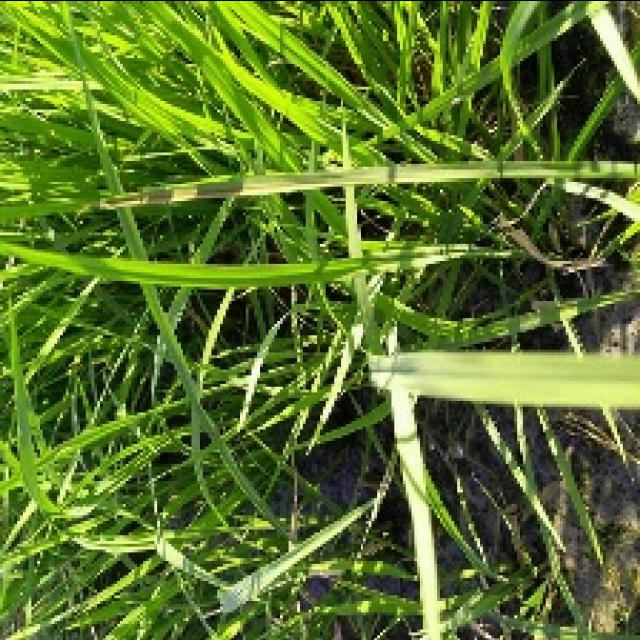Unhealthy: (97, 174, 337, 206)
